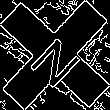N_NE: (23, 23, 87, 87)
